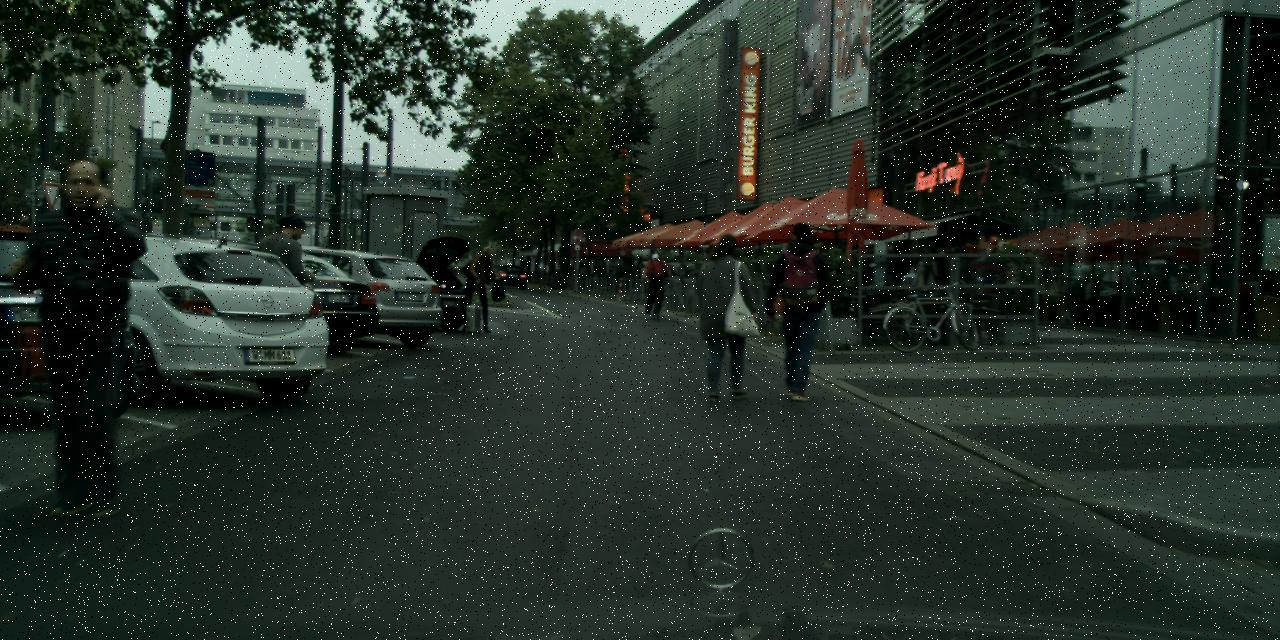ped: (8, 160, 156, 520), (759, 222, 832, 399), (693, 232, 761, 398), (249, 213, 314, 371), (974, 236, 1012, 330), (463, 246, 499, 333), (640, 252, 666, 312)
